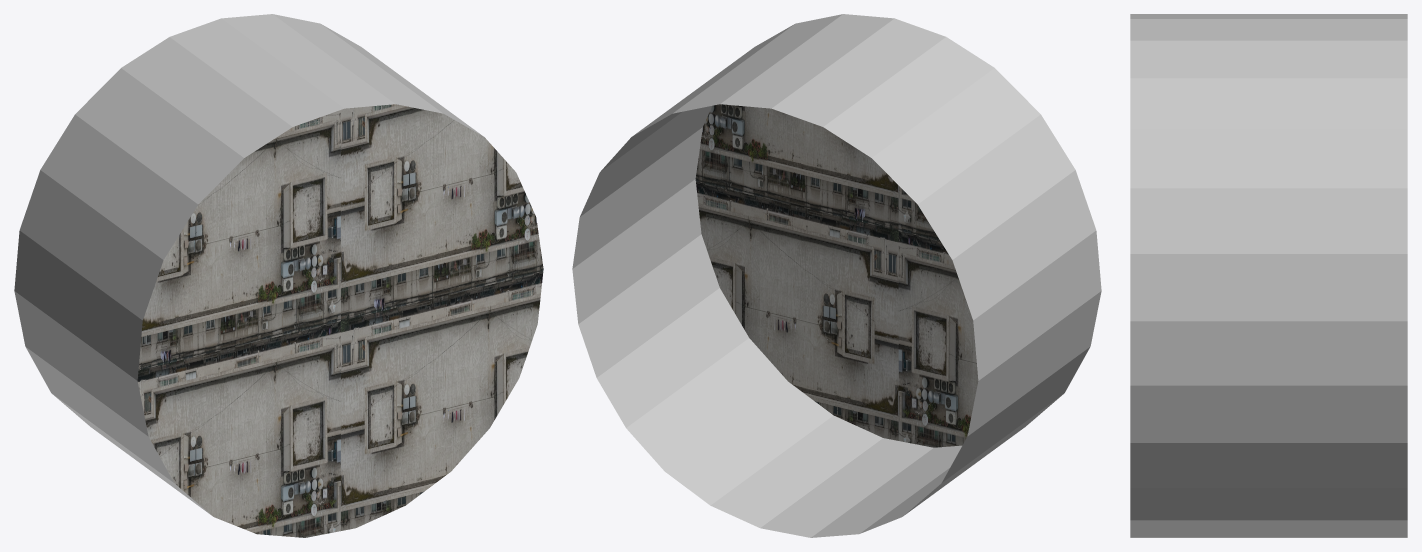
File: geospecific_1920.obj
The picture shows the model from 3 angles, left to right: view 1: azimuth 30°, elevation 25°; view 2: azimuth 150°, elevation 25°; view 3: azimuth 270°, elevation 25°; orthographic projection. The views are drawn at different scales.
Parts seen in each view (by area): view 1: Building; view 2: Building; view 3: Building.
Part boxes in pixels (x1,y1,x2,y2): Building: (14,14,543,537); Building: (572,14,1101,537); Building: (1130,14,1407,537).
Bounding box in the file's own units: 28.53 × 28.36 × 15.
